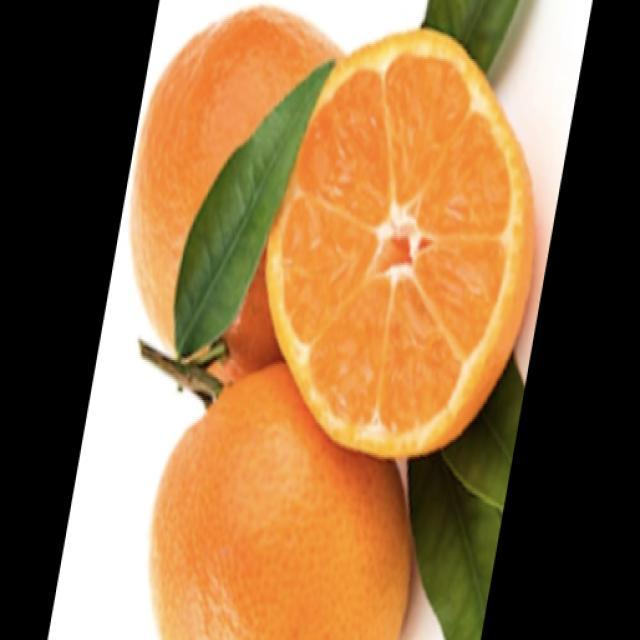Orange: (263, 26, 535, 459), (129, 2, 346, 393), (148, 360, 413, 639)
